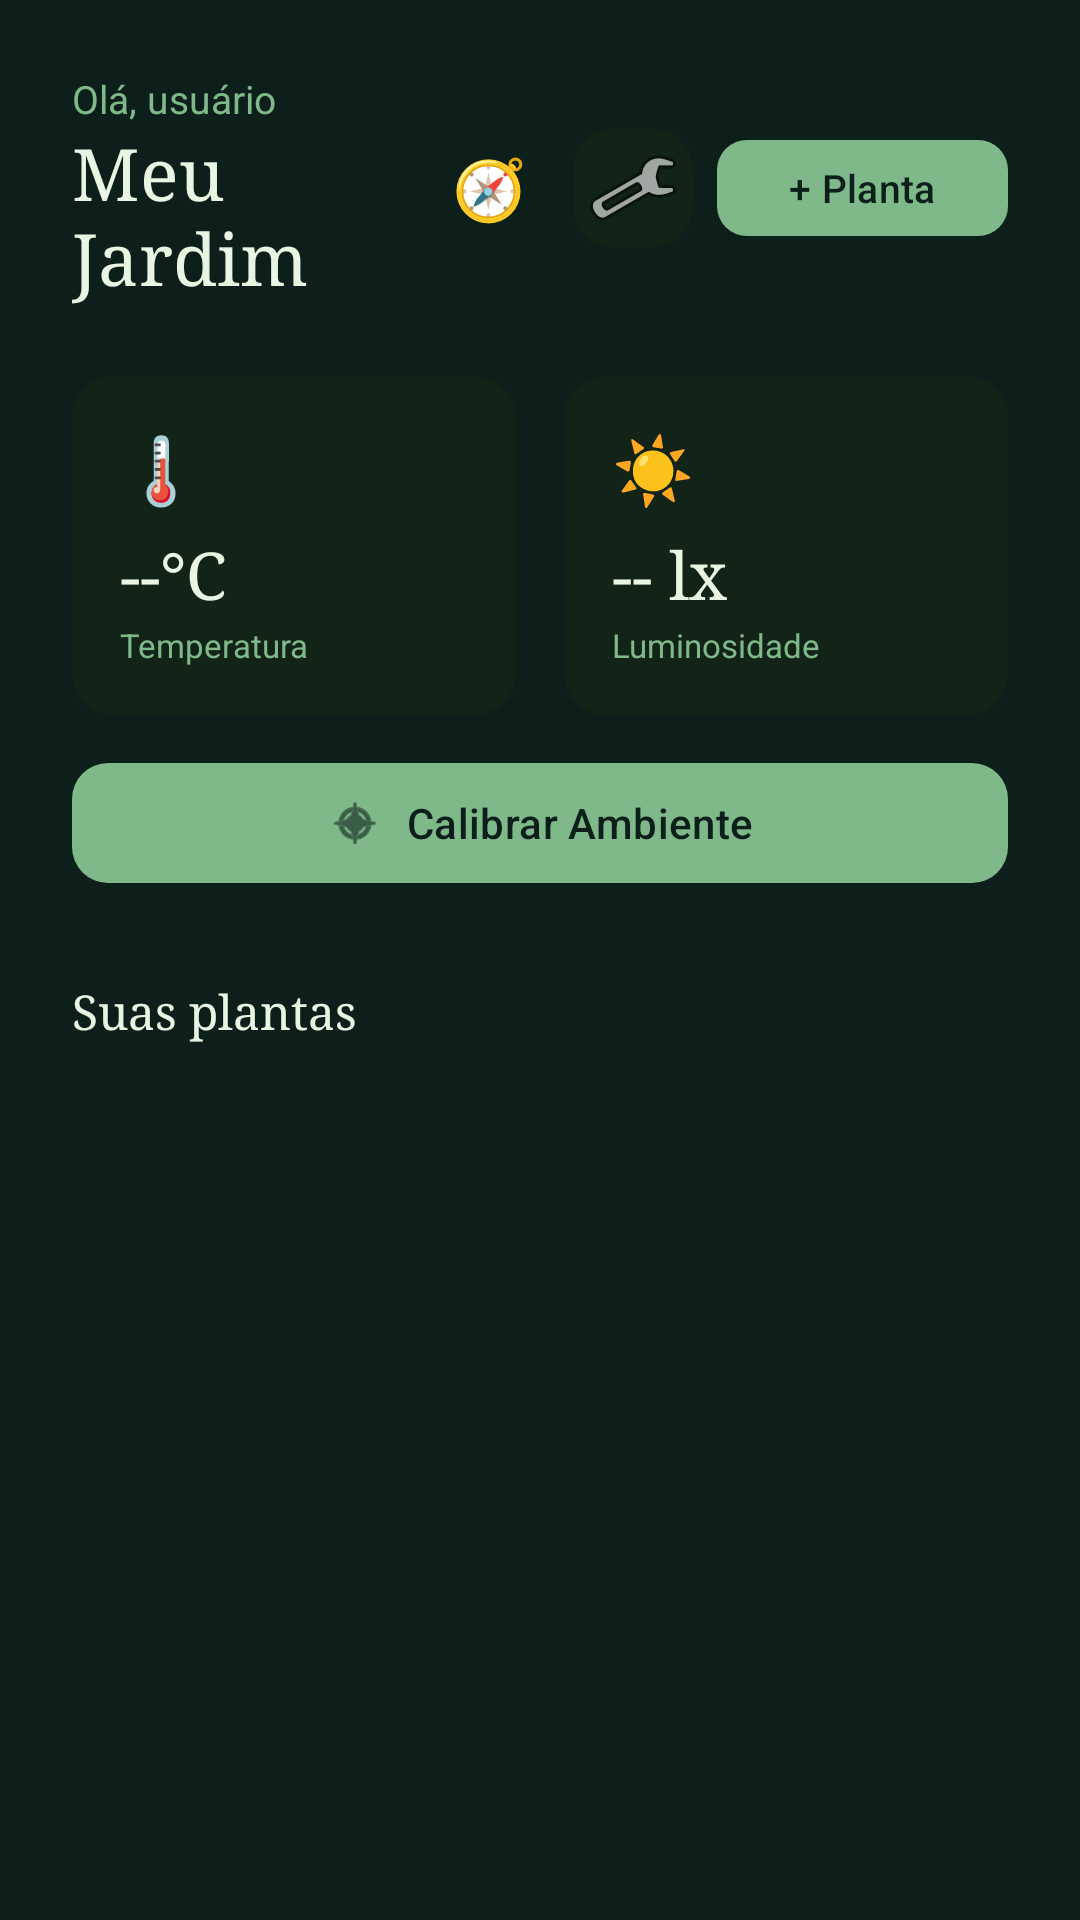

Where to tap for icons on this 1080*1920 app screen, as (x,y):
Configurações: (633,188)
